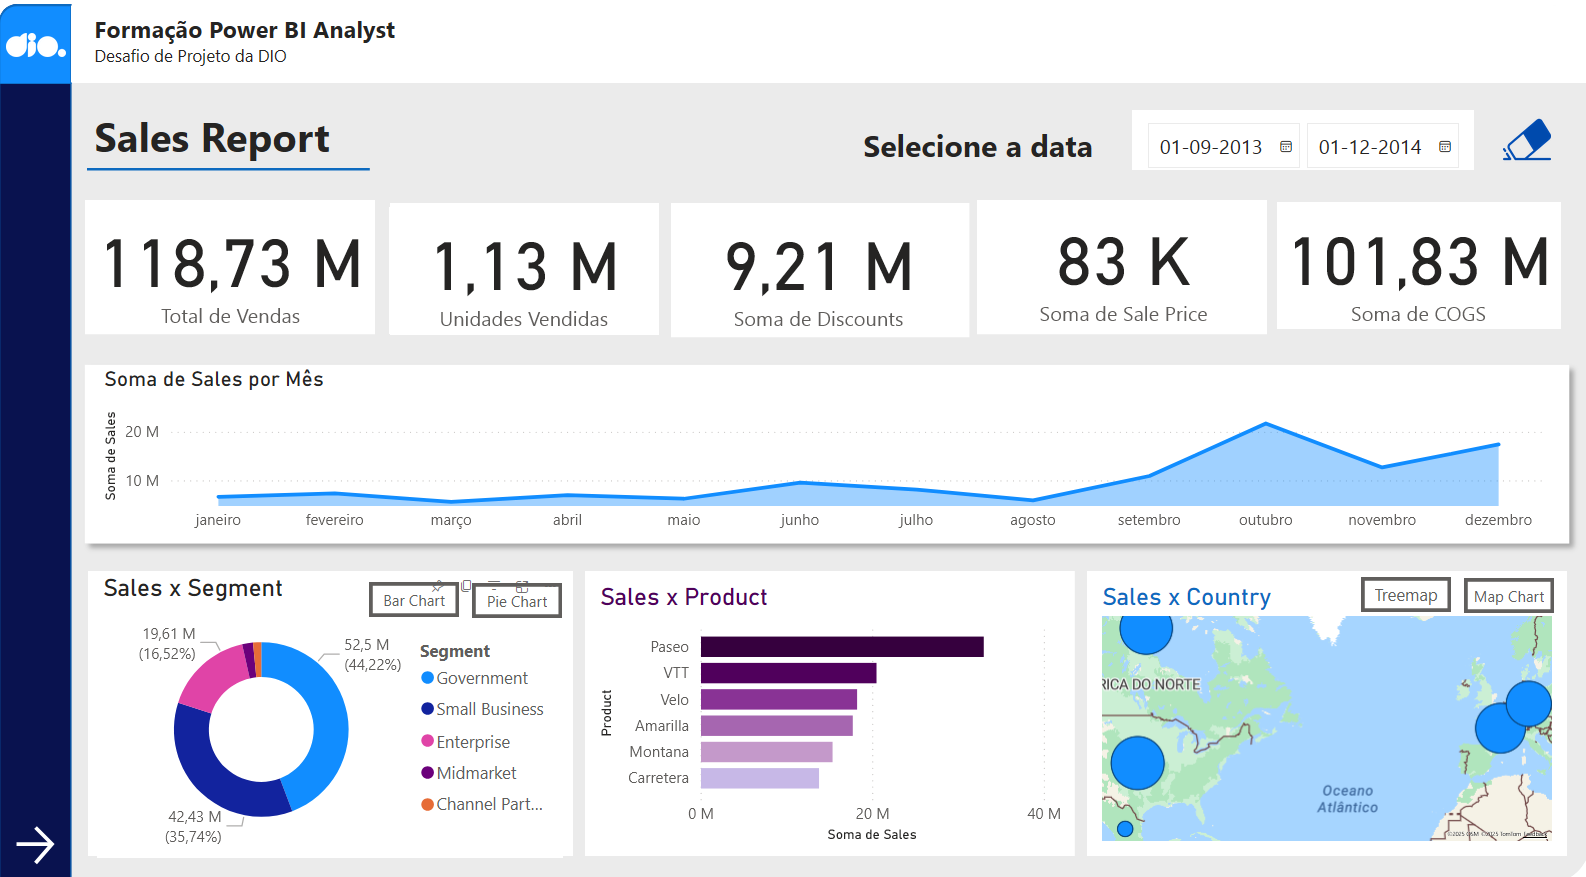

What the dashboard file says about the page in this screenshot:
{"tool":"powerbi","page":{"name":"Sales Report","canvas":[1280,720],"ordinal":0},"visuals":[{"type":"shape","box":[54.3,20.7,1225.7,699.5],"z":0},{"type":"slicer","fields":{"Values":["financials.Date"]},"box":[914.9,104.2,272.2,48.1],"z":0,"group":"g3"},{"type":"shape","box":[82.5,128.8,225.1,46.6],"z":0,"group":"g1"},{"type":"shape","box":[81.5,175.8,231,107.1],"z":0,"group":"g2"},{"type":"clusteredBarChart","title":"Sales x Segment ","fields":{"Y":["Sum(financials. Sales)"],"Category":["financials.Segment"]},"box":[91.3,479.4,370.3,213.2],"z":0,"group":"g5"},{"type":"shape","box":[12.4,20.2,57.7,699.8],"z":1000},{"type":"textbox","box":[83.1,98.2,208.3,53],"z":1000,"group":"g1"},{"type":"textbox","box":[695.8,110.2,212.9,38.9],"z":1000,"group":"g3"},{"type":"shape","box":[324.6,177.9,214.2,105.1],"z":1000,"group":"g2"},{"type":"treemap","title":"Sales  x Country ","fields":{"Group":["financials.Country"],"Values":["Sum(financials. Sales)"]},"box":[888.1,479.4,368.4,211.2],"z":1000,"group":"g4"},{"type":"actionButton","title":"Botão  - map","box":[1178.8,476.4,71.8,27.9],"z":1500,"group":"g4"},{"type":"actionButton","title":"Botão - pie","box":[389.5,481,71.8,27.9],"z":1500,"group":"g5"},{"type":"shape","box":[12.4,20.6,57.7,63.2],"z":2000},{"type":"image","title":"clean","box":[1199.6,103.4,59.2,48.6],"z":2000,"group":"g3"},{"type":"shape","box":[547.6,177.9,237.7,107.1],"z":2000,"group":"g2"},{"type":"actionButton","title":"Botão - treemap","box":[1096.8,475.6,71.8,27.9],"z":2000,"group":"g4"},{"type":"actionButton","title":"Botão  - bar","box":[307.5,480.1,71.8,27.9],"z":2000,"group":"g5"},{"type":"actionButton","box":[1202.3,106.9,55.7,44.2],"z":3000,"group":"g3"},{"type":"actionButton","box":[1201,108.2,59.9,44.9],"z":3000},{"type":"shape","box":[791.4,175.8,231,107.1],"z":3000,"group":"g2"},{"type":"image","title":"logo_Dio","box":[13.7,33,57.7,39.9],"z":4000},{"type":"card","fields":{"Values":["Sum(financials.COGS)"]},"box":[1030.4,177.8,225.9,101.2],"z":4000,"group":"g2"},{"type":"shape","title":"Fundo do Título","box":[69.9,20.7,1210.1,62.1],"z":5000},{"type":"card","fields":{"Values":["Sum(financials.Sale Price)"]},"box":[795.7,177.8,225.9,101.2],"z":5000,"group":"g2"},{"type":"textbox","title":"Título do report","box":[83.9,22,378.1,63.2],"z":6000},{"type":"card","fields":{"Values":["Sum(financials.Units Sold)"]},"box":[323.2,181.7,215.1,101.2],"z":6000,"group":"g2"},{"type":"group","id":"g1","title":"Sales report","box":[82.5,98.2,225,77.6],"z":7000},{"type":"card","fields":{"Values":["Sum(financials.Discounts)"]},"box":[553,181.7,225.9,101.2],"z":8000,"group":"g2"},{"type":"group","id":"g2","title":"Cartões","box":[81.5,175.8,1177.8,109.2],"z":9000},{"type":"card","fields":{"Values":["Sum(financials. Sales)"]},"box":[84.4,178.7,225.9,101.2],"z":9000,"group":"g2"},{"type":"shape","box":[72.7,298.6,1199.4,160.1],"z":10000},{"type":"shape","box":[83.5,471.5,386.1,226.9],"z":11000},{"type":"shape","box":[479.4,471.5,390,226.9],"z":12000},{"type":"shape","box":[879.2,471.5,382.1,226.9],"z":13000},{"type":"areaChart","fields":{"Category":["financials.Date.Variation.Hierarquia de datas.Mês"],"Y":["Sum(financials. Sales)"]},"box":[91.4,308.5,1157.2,140.5],"z":14000},{"type":"clusteredBarChart","title":"Sales x Product","fields":{"Y":["Sum(financials. Sales)"],"Category":["financials.Product"]},"box":[486.3,480.4,377.2,211.2],"z":15000},{"type":"group","id":"g3","title":"Filtro por data","box":[695.8,103.4,563,48.9],"z":16000},{"type":"group","id":"g4","title":"Sales x pais","box":[886.1,475.6,370.3,215],"z":17000},{"type":"group","id":"g5","title":"Sales x Segmento","box":[90.9,472.7,370.9,227.3],"z":18000},{"type":"actionButton","box":[20.6,669,40.3,42.2],"z":19000}]}

Visuals, with their boxes on the page's 1280x720 design canvas (x1, y1, x2, y2). These are canvas units, not pixel positions in the 1586x877 screenshot, which may show the page scaled, cropped or inside an application window:
shape: select_region(54, 21, 1280, 720)
slicer - financials.Date: select_region(915, 104, 1187, 152)
shape: select_region(82, 129, 308, 175)
shape: select_region(82, 176, 312, 283)
"Sales x Segment " clusteredBarChart: select_region(91, 479, 462, 693)
shape: select_region(12, 20, 70, 720)
textbox: select_region(83, 98, 291, 151)
textbox: select_region(696, 110, 909, 149)
shape: select_region(325, 178, 539, 283)
"Sales  x Country " treemap: select_region(888, 479, 1256, 691)
"Botão  - map" actionButton: select_region(1179, 476, 1251, 504)
"Botão - pie" actionButton: select_region(390, 481, 461, 509)
shape: select_region(12, 21, 70, 84)
"clean" image: select_region(1200, 103, 1259, 152)
shape: select_region(548, 178, 785, 285)
"Botão - treemap" actionButton: select_region(1097, 476, 1169, 504)
"Botão  - bar" actionButton: select_region(308, 480, 379, 508)
actionButton: select_region(1202, 107, 1258, 151)
actionButton: select_region(1201, 108, 1261, 153)
shape: select_region(791, 176, 1022, 283)
"logo_Dio" image: select_region(14, 33, 71, 73)
card - Sum(financials.COGS): select_region(1030, 178, 1256, 279)
"Fundo do Título" shape: select_region(70, 21, 1280, 83)
card - Sum(financials.Sale Price): select_region(796, 178, 1022, 279)
"Título do report" textbox: select_region(84, 22, 462, 85)
card - Sum(financials.Units Sold): select_region(323, 182, 538, 283)
"Sales report" group: select_region(82, 98, 308, 176)
card - Sum(financials.Discounts): select_region(553, 182, 779, 283)
"Cartões" group: select_region(82, 176, 1259, 285)
card - Sum(financials. Sales): select_region(84, 179, 310, 280)
shape: select_region(73, 299, 1272, 459)
shape: select_region(84, 472, 470, 698)
shape: select_region(479, 472, 869, 698)
shape: select_region(879, 472, 1261, 698)
areaChart - financials.Date.Variation.Hierarquia de datas.Mês x Sum(financials. Sales): select_region(91, 308, 1249, 449)
"Sales x Product" clusteredBarChart: select_region(486, 480, 864, 692)
"Filtro por data" group: select_region(696, 103, 1259, 152)
"Sales x pais" group: select_region(886, 476, 1256, 691)
"Sales x Segmento" group: select_region(91, 473, 462, 700)
actionButton: select_region(21, 669, 61, 711)
